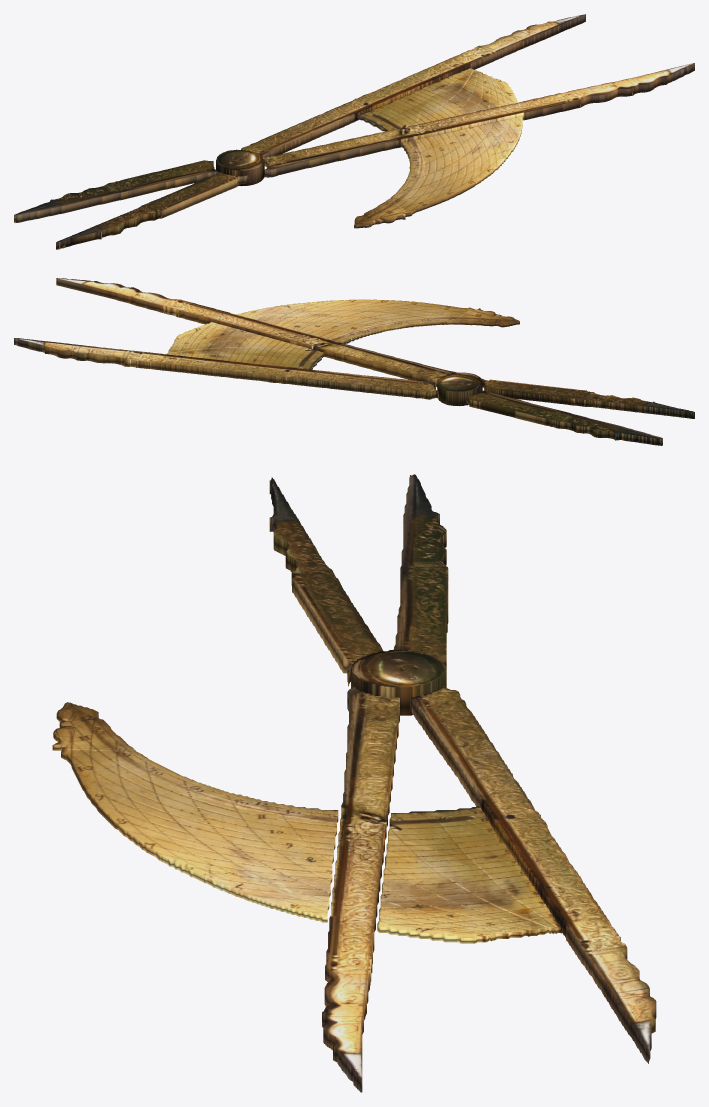
File: proportional-compass.glb
3 views of the same model, one above another, from view 1: azimuth 30°, elevation 25°; view 2: azimuth 150°, elevation 25°; view 3: azimuth 270°, elevation 25° (orthographic). The views are drawn at different scales.
Parts seen in each view (by area): view 1: Legs, Plane, Circle; view 2: Legs, Plane, Circle; view 3: Legs, Plane, Circle.
Boxes of the visible parts, x1,y1,x2,y2 form: Legs: (14, 14, 694, 249); Plane: (354, 67, 522, 228); Circle: (216, 149, 264, 186); Legs: (14, 278, 694, 445); Plane: (166, 299, 519, 369); Circle: (437, 372, 482, 406); Legs: (269, 474, 656, 1092); Plane: (52, 702, 562, 943); Circle: (351, 650, 446, 715).
Size of the model in its own units: 4.7 by 0.1015 by 1.98.
Materials: 1 (1 with a texture image).
